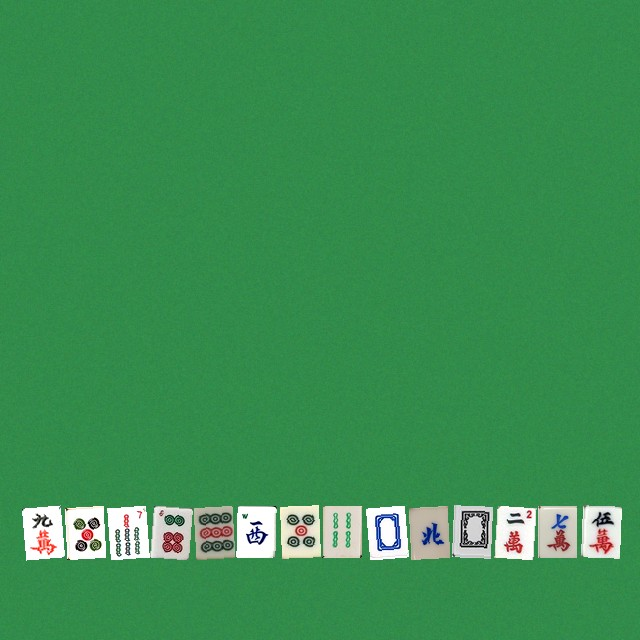tile: (21, 505, 60, 557), (64, 505, 103, 557), (107, 505, 146, 557), (150, 505, 189, 557), (193, 505, 232, 557), (236, 505, 275, 557), (279, 505, 318, 557), (322, 505, 361, 557), (365, 505, 404, 557), (408, 505, 447, 557), (451, 505, 490, 557), (494, 505, 533, 557), (537, 505, 576, 557), (580, 505, 619, 557)
